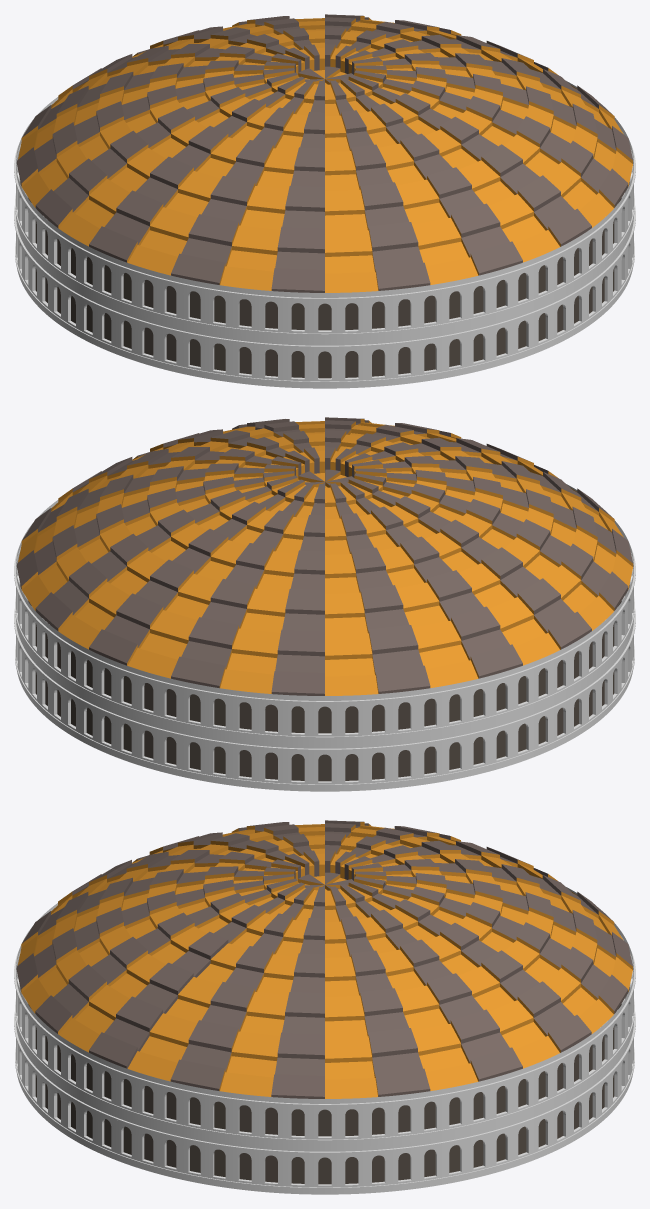
The model's file is dome.fbx.
The picture shows the model from 3 angles, top to bottom: view 1: azimuth 30°, elevation 25°; view 2: azimuth 150°, elevation 25°; view 3: azimuth 270°, elevation 25°; orthographic projection.
Parts seen in each view (by area): view 1: Sphere, Plane; view 2: Sphere, Plane; view 3: Sphere, Plane.
Boxes of the visible parts, x1,y1,x2,y2 form: Sphere: (17,14,632,292); Plane: (14,81,635,388); Sphere: (17,417,633,695); Plane: (14,484,635,791); Sphere: (16,820,632,1098); Plane: (14,887,635,1194).
Bounding box in the file's own units: 14964 × 5044 × 14964.
